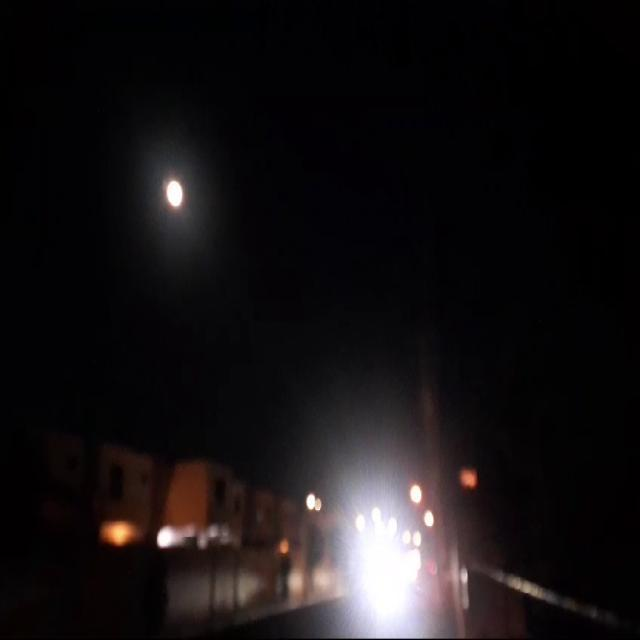moon: (168, 181, 187, 215)
